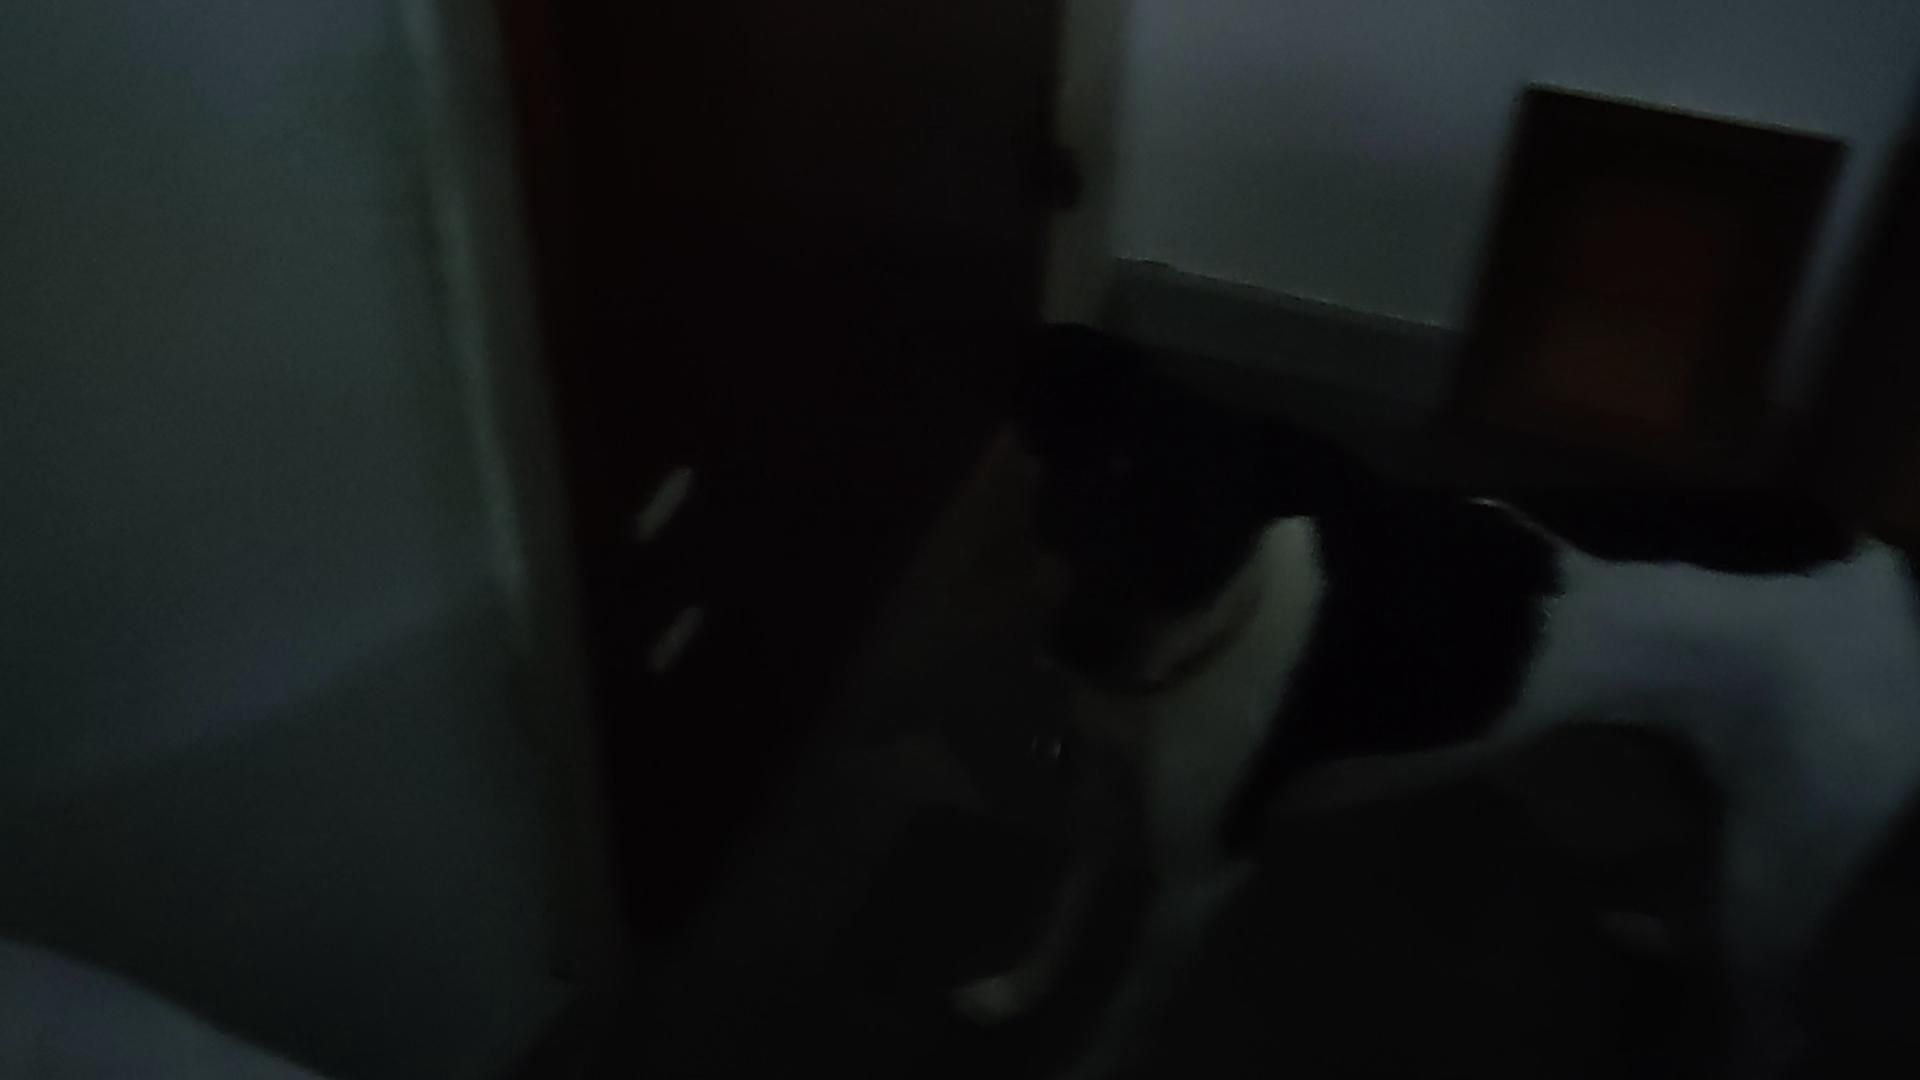Dog: (938, 316, 1919, 1079)
